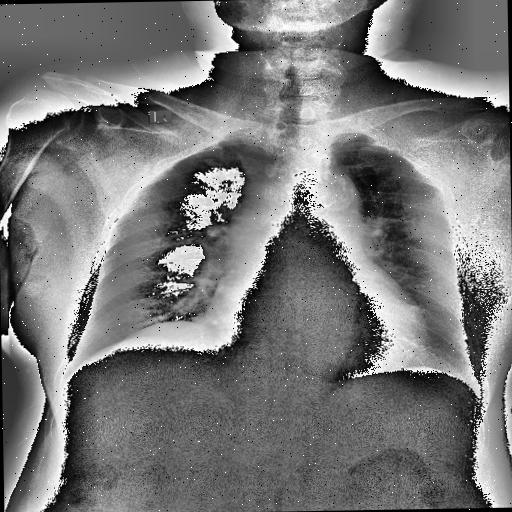0- Aortic enlargement: (298, 170, 366, 248), (288, 172, 362, 232), (310, 170, 362, 224)
11- Pleural thickening: (225, 128, 273, 149), (331, 132, 373, 144)
3- Cardiomegaly: (206, 284, 430, 372), (208, 292, 434, 372), (208, 290, 430, 370)
